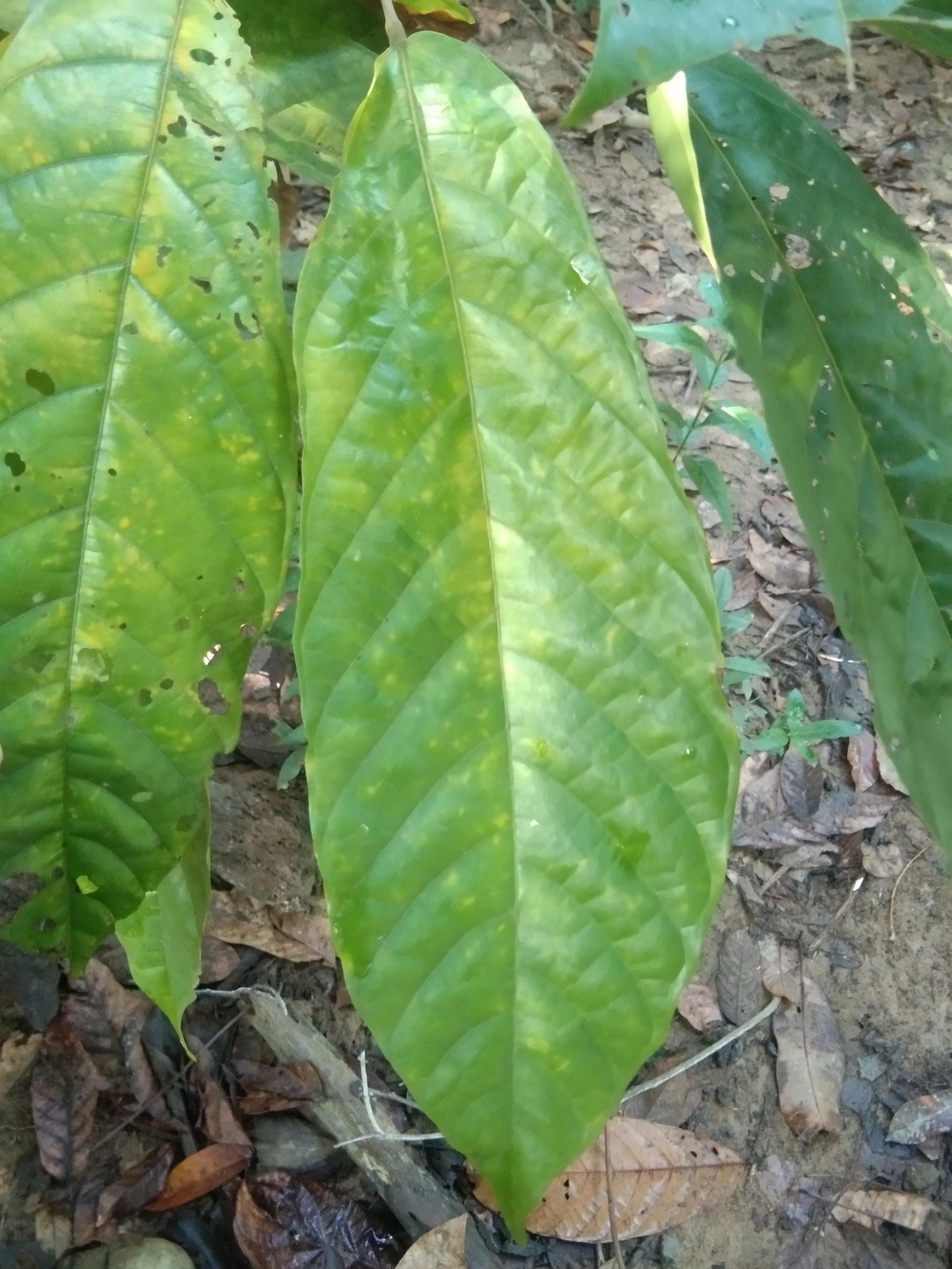deficiencia_potasio: (284, 46, 751, 1263)
